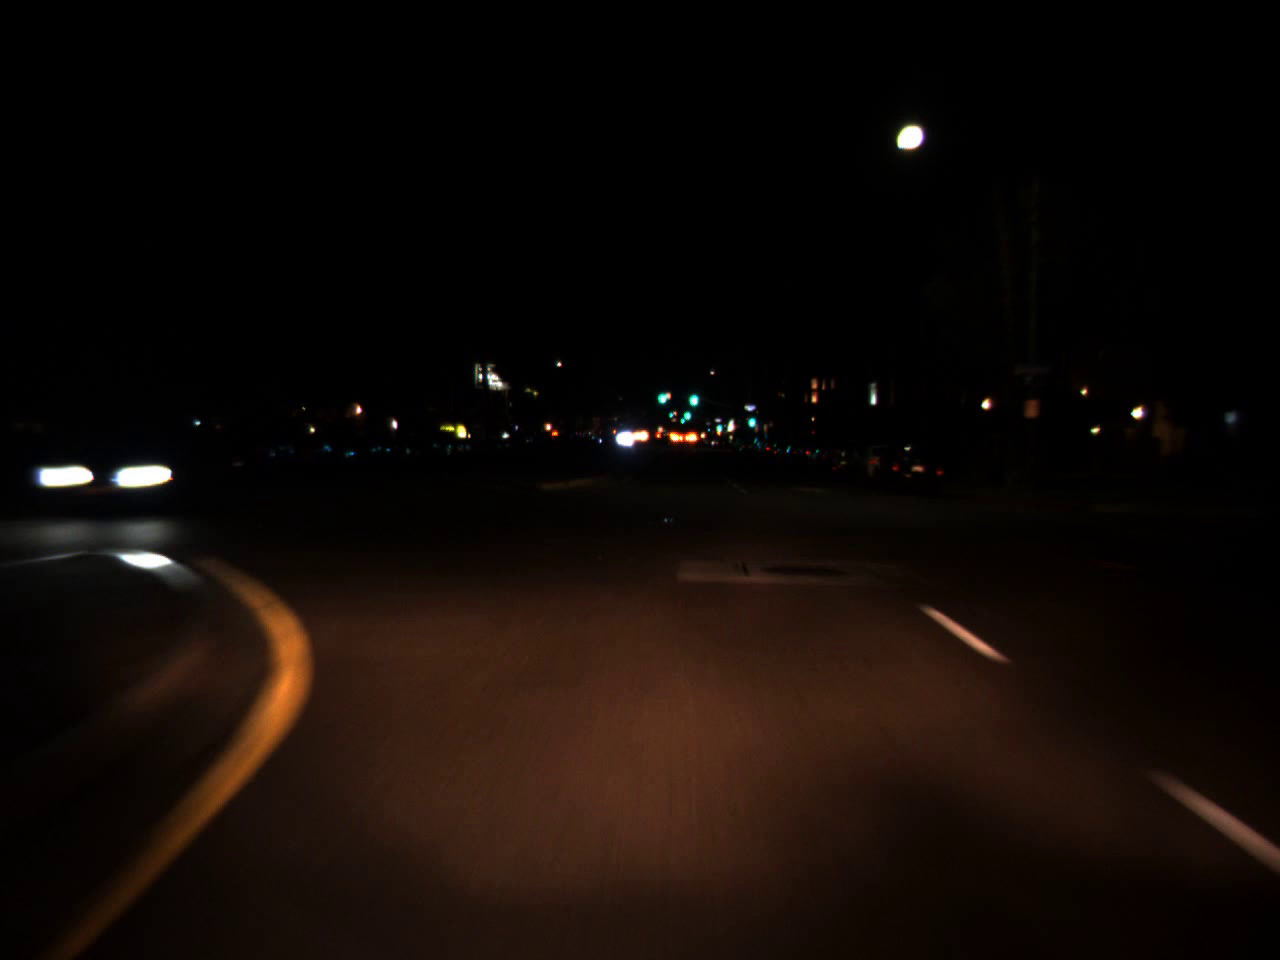go: (686, 381, 700, 411), (654, 380, 668, 407), (745, 406, 759, 430), (681, 400, 691, 424), (716, 419, 723, 432)
